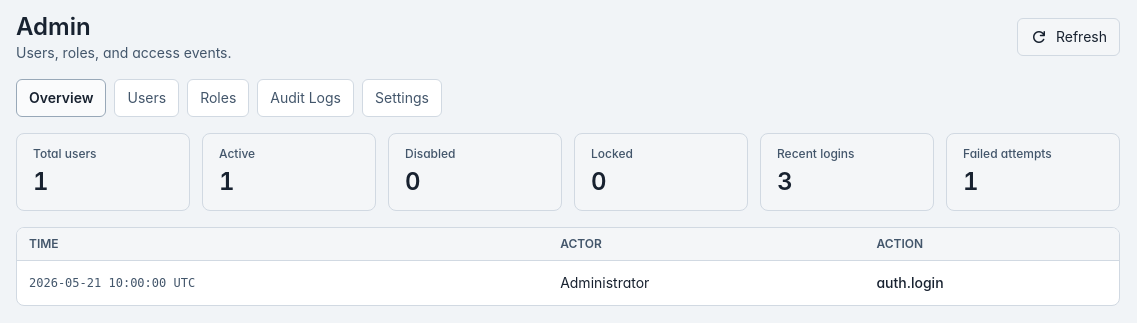
it: AdminDashboard › keeps overview and audit tables horizontally scrollable on narrow screens
Expected: the text "auth.login" is shown, [864,260,1119,305]
Click the tab "Audit Logs": (306,98) [257,79,354,117]
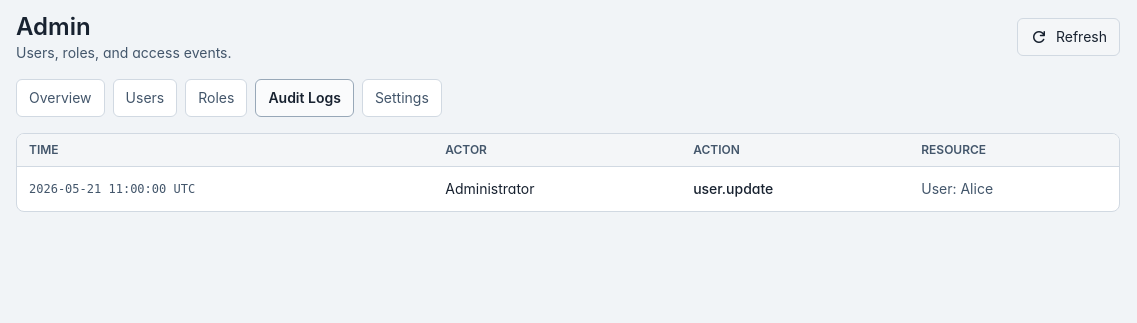
Now the text "user.update" is shown, box [681,166,909,211]
